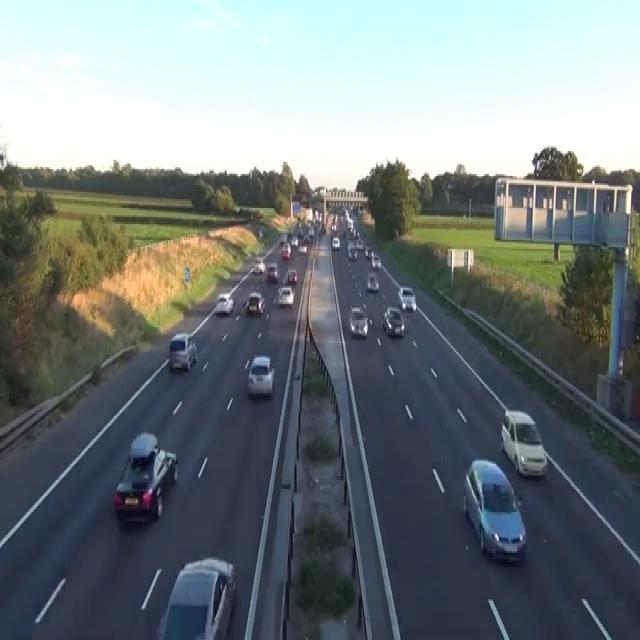Car: (463, 458, 527, 564), (155, 556, 236, 638), (113, 430, 178, 523), (500, 409, 547, 478), (168, 331, 197, 372), (246, 356, 274, 396), (380, 306, 405, 336), (348, 306, 368, 338), (397, 285, 416, 311), (215, 292, 234, 314), (246, 292, 265, 314), (278, 284, 294, 308), (266, 263, 279, 283), (366, 272, 379, 292), (253, 258, 265, 274), (347, 242, 357, 261), (281, 242, 291, 260), (286, 266, 297, 282), (370, 252, 381, 268), (331, 236, 340, 249), (355, 238, 364, 251), (365, 244, 373, 258), (258, 224, 267, 236), (318, 222, 326, 235), (330, 222, 337, 235), (298, 242, 307, 252), (279, 233, 287, 243), (290, 237, 298, 247), (347, 219, 353, 231), (308, 226, 314, 236), (352, 228, 358, 238), (259, 228, 262, 236)
